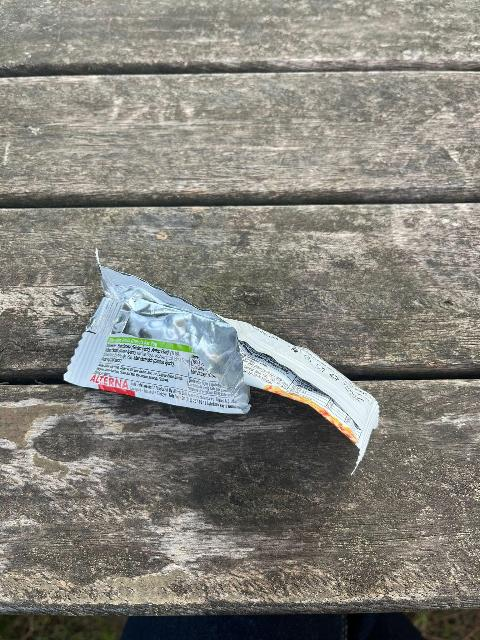Plastik: (64, 250, 378, 475)
